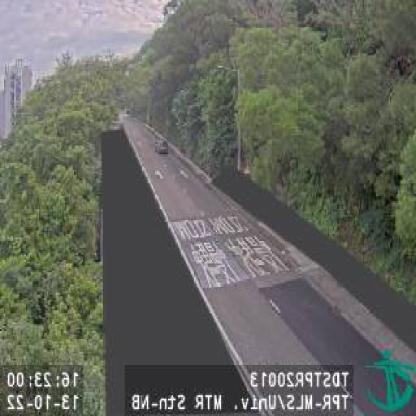Car: (156, 139, 169, 156)
